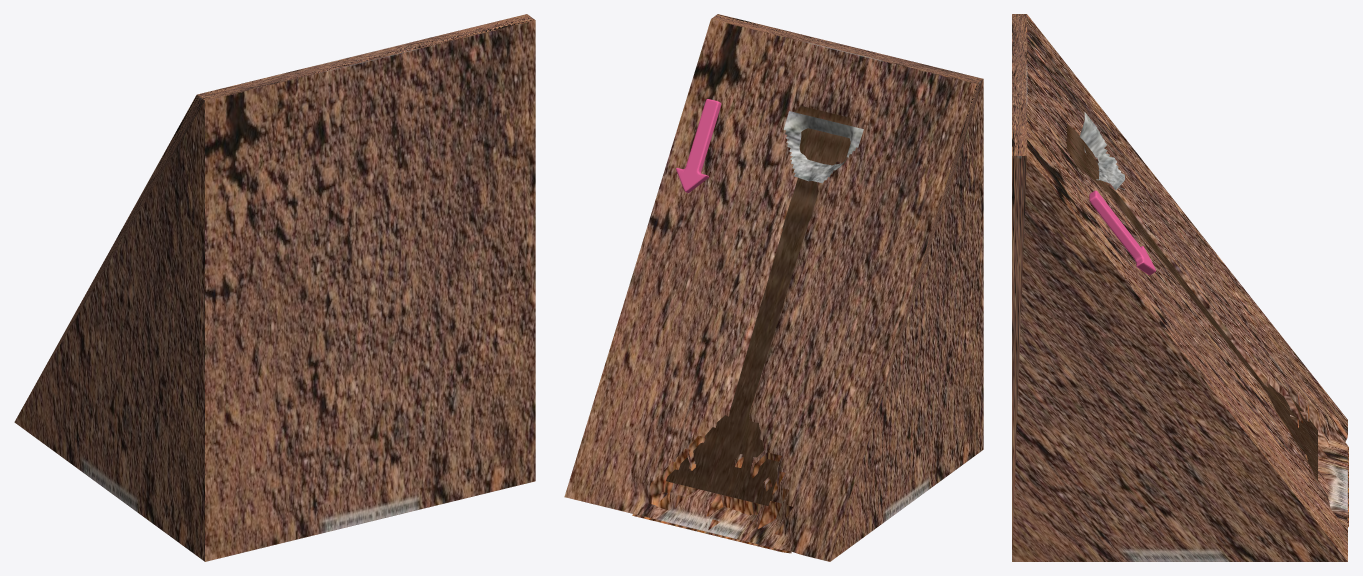
File: 标准型泥石流.gltf
3 views of the same model, side by side, from view 1: azimuth 30°, elevation 25°; view 2: azimuth 150°, elevation 25°; view 3: azimuth 270°, elevation 25° (orthographic). The views are drawn at different scales.
Visible parts, largest first — view 1: node_Box001_-1096; view 2: node_Box001_-1096, node_Plane_-1102, node_003_-1098, node_001_-1094, node_arrow_1_-1100; view 3: node_Box001_-1096, node_Plane_-1102, node_arrow_1_-1100, node_001_-1094.
Part boxes in pixels (x1=…): node_Box001_-1096: x1=14, y1=14, x2=535, y2=561; node_Box001_-1096: x1=564, y1=14, x2=983, y2=561; node_Plane_-1102: x1=666, y1=106, x2=852, y2=505; node_003_-1098: x1=632, y1=435, x2=792, y2=553; node_001_-1094: x1=783, y1=111, x2=863, y2=183; node_arrow_1_-1100: x1=676, y1=99, x2=721, y2=192; node_Box001_-1096: x1=1012, y1=14, x2=1347, y2=561; node_Plane_-1102: x1=1067, y1=123, x2=1317, y2=480; node_arrow_1_-1100: x1=1089, y1=190, x2=1155, y2=275; node_001_-1094: x1=1079, y1=112, x2=1124, y2=190.
Size of the model in its own units: 0.762 by 1.02 by 0.7641.
